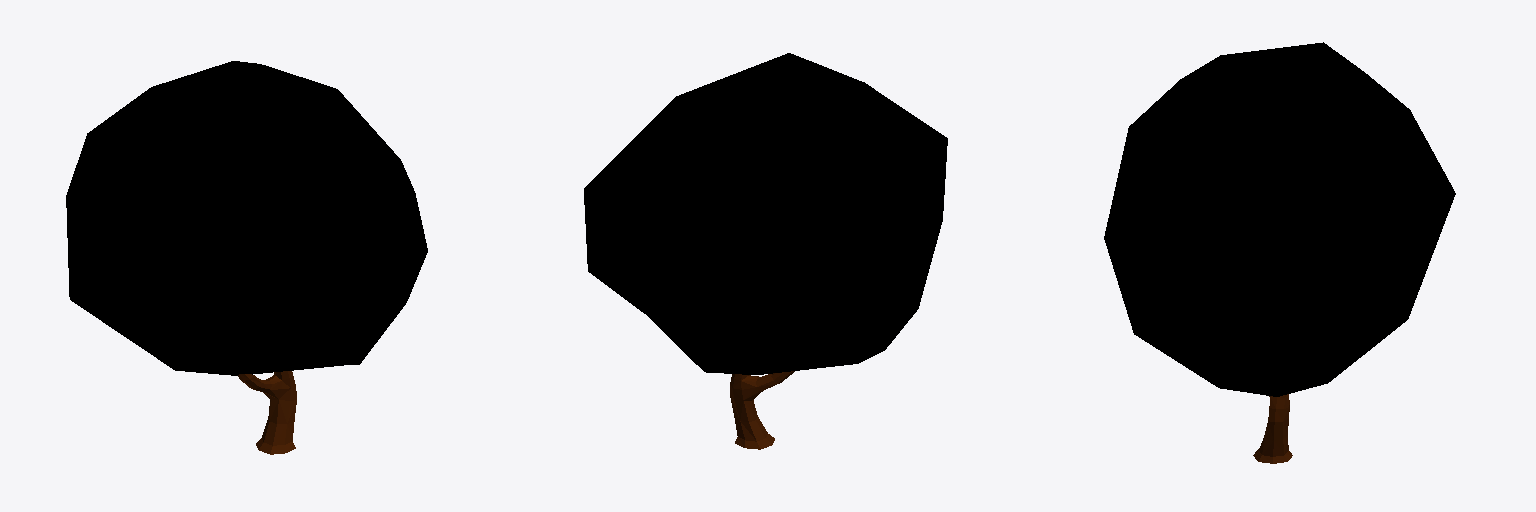
Rendered from tree2.obj.
3 views of the same model, side by side, from view 1: azimuth 30°, elevation 25°; view 2: azimuth 150°, elevation 25°; view 3: azimuth 270°, elevation 25° (orthographic).
Parts seen in each view (by area): view 1: Bush_1; view 2: Bush_1; view 3: Bush_1.
Part boxes in pixels (x1,y1,x2,y2): Bush_1: (66,61,427,454); Bush_1: (584,53,947,449); Bush_1: (1104,42,1455,463).
Size of the model in its own units: 6.31 by 7.01 by 5.83.